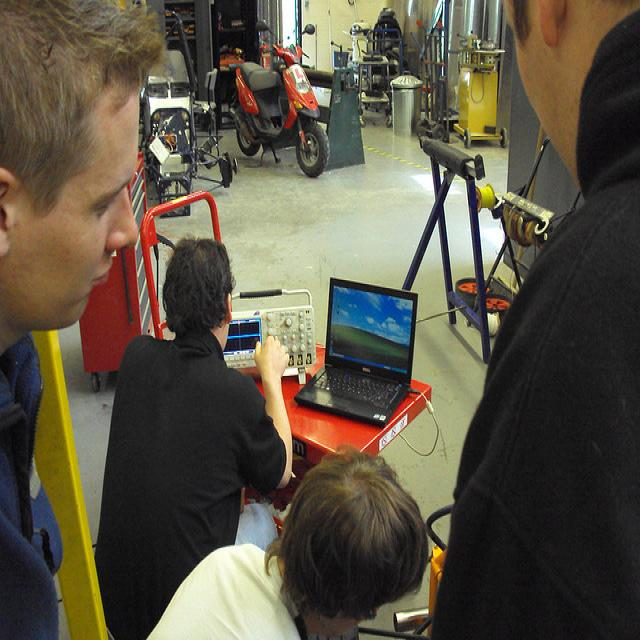motor: (231, 16, 332, 177)
